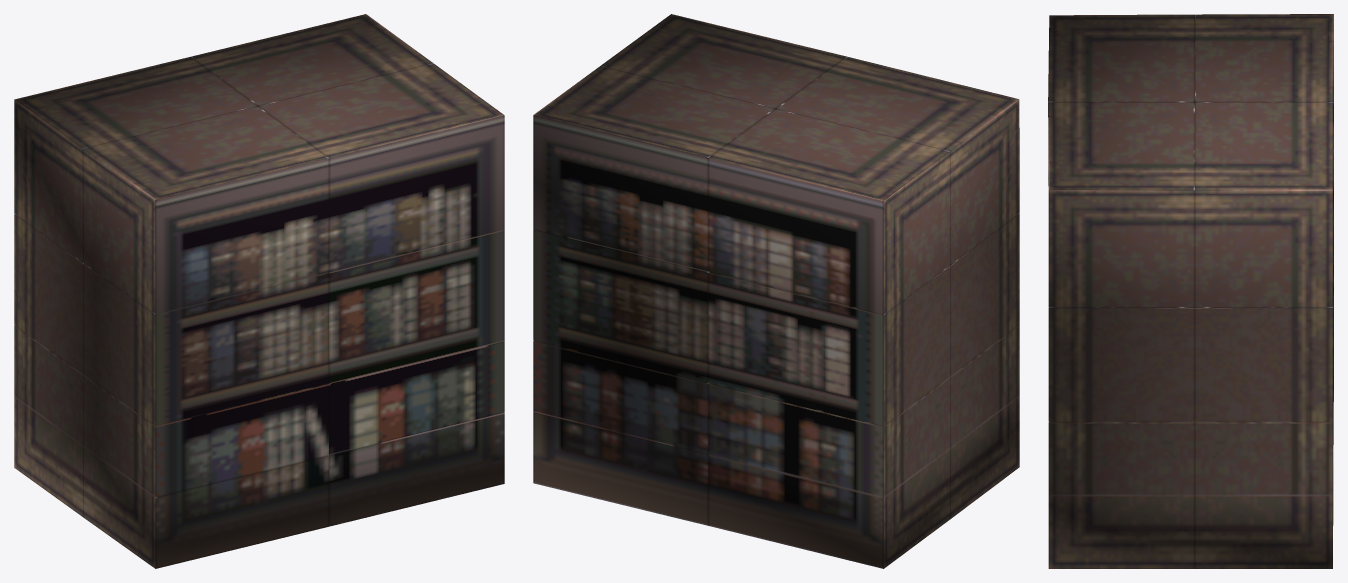
The picture shows the model from 3 angles, left to right: view 1: azimuth 30°, elevation 25°; view 2: azimuth 150°, elevation 25°; view 3: azimuth 270°, elevation 25°; orthographic projection. The views are drawn at different scales.
Parts seen in each view (by area): view 1: T1L1M002_6; view 2: T1L1M002_6; view 3: T1L1M002_6.
Part boxes in pixels (bbox=[...]): T1L1M002_6: bbox=[14, 14, 504, 568]; T1L1M002_6: bbox=[533, 14, 1019, 568]; T1L1M002_6: bbox=[1048, 14, 1333, 568].
Size of the model in its own units: 3.58 by 3.59 by 2.46.
